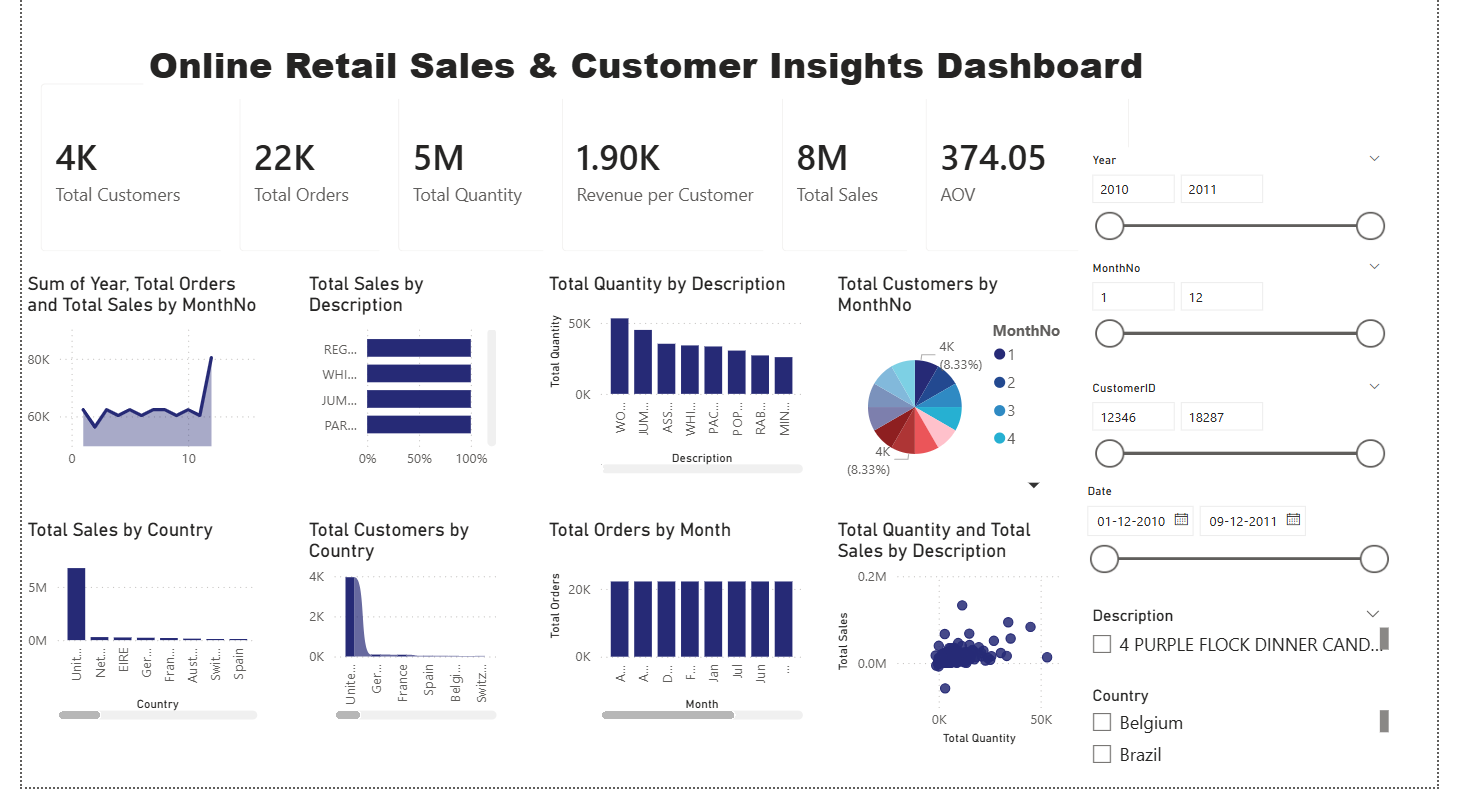

What the dashboard file says about the page in this screenshot:
{"tool":"powerbi","page":{"name":"Page 1","canvas":[1280,720],"ordinal":0},"visuals":[{"type":"cardVisual","fields":{"Data":["online_retail.Total Customers"]},"box":[0,67.2,218.2,186.6],"z":0},{"type":"cardVisual","fields":{"Data":["online_retail.Total Orders"]},"box":[179.8,67.2,218.2,186.6],"z":1000},{"type":"cardVisual","fields":{"Data":["online_retail.Total Quantity"]},"box":[323.8,67.2,218.2,186.6],"z":2000},{"type":"cardVisual","fields":{"Data":["DateTable.Revenue per Customer"]},"box":[472,67.2,240.1,186.6],"z":3000},{"type":"cardVisual","fields":{"Data":["online_retail.Total Sales"]},"box":[671,67.2,218.2,186.6],"z":4000},{"type":"cardVisual","fields":{"Data":["online_retail.AOV"]},"box":[800,67.2,218.2,186.6],"z":5000},{"type":"areaChart","fields":{"Category":["DateTable.MonthNo"],"Y":["Sum(DateTable.Year)"]},"box":[0,253.9,218.2,186.6],"z":6000},{"type":"clusteredColumnChart","fields":{"Category":["online_retail.Country"],"Y":["online_retail.Total Sales"]},"box":[0,477,218,187],"z":6001},{"type":"hundredPercentStackedBarChart","fields":{"Category":["online_retail.Description"],"Y":["online_retail.Total Sales"]},"box":[253.9,253.9,179.8,186.6],"z":6002},{"type":"ribbonChart","fields":{"Y":["online_retail.Total Customers"],"Category":["online_retail.Country"]},"box":[254,477,180,187],"z":6003},{"type":"lineClusteredColumnComboChart","fields":{"Category":["online_retail.Description"],"Y":["online_retail.Total Quantity"]},"box":[472,254,240,187],"z":6004},{"type":"lineStackedColumnComboChart","fields":{"Category":["DateTable.Month"],"Y":["online_retail.Total Orders"]},"box":[472,477,240,187],"z":6005},{"type":"pieChart","fields":{"Category":["DateTable.MonthNo"],"Y":["online_retail.Total Customers"]},"box":[732.8,253.9,222.3,205.8],"z":6006},{"type":"scatterChart","fields":{"X":["online_retail.Total Quantity"],"Y":["online_retail.Total Sales"],"Category":["online_retail.Description"]},"box":[732.8,477.5,222.3,209.9],"z":6007},{"type":"slicer","fields":{"Values":["DateTable.MonthNo"]},"box":[961.1,253.3,284.9,93.8],"z":6009},{"type":"slicer","fields":{"Values":["online_retail.Country"]},"box":[959.9,555.2,280.4,143.6],"z":6010},{"type":"slicer","fields":{"Values":["online_retail.CustomerID"]},"box":[955.1,347.2,285.4,93.3],"z":6011},{"type":"slicer","fields":{"Values":["online_retail.Description"]},"box":[959.9,113.1,284.9,140.2],"z":6012},{"type":"slicer","fields":{"Values":["DateTable.Date"]},"box":[952,448.9,294,102.9],"z":6013},{"type":"textbox","box":[109.8,38.4,989.4,59],"z":6014}]}

Visuals, with their boxes on the page's 1280x720 design canvas (x1, y1, x2, y2). These are canvas units, not pixel positions in the 1458x789 screenshot, which may show the page scaled, cropped or inside an application window:
cardVisual - online_retail.Total Customers: {"x1": 0, "y1": 67, "x2": 218, "y2": 254}
cardVisual - online_retail.Total Orders: {"x1": 180, "y1": 67, "x2": 398, "y2": 254}
cardVisual - online_retail.Total Quantity: {"x1": 324, "y1": 67, "x2": 542, "y2": 254}
cardVisual - DateTable.Revenue per Customer: {"x1": 472, "y1": 67, "x2": 712, "y2": 254}
cardVisual - online_retail.Total Sales: {"x1": 671, "y1": 67, "x2": 889, "y2": 254}
cardVisual - online_retail.AOV: {"x1": 800, "y1": 67, "x2": 1018, "y2": 254}
areaChart - DateTable.MonthNo x Sum(DateTable.Year): {"x1": 0, "y1": 254, "x2": 218, "y2": 440}
clusteredColumnChart - online_retail.Country x online_retail.Total Sales: {"x1": 0, "y1": 477, "x2": 218, "y2": 664}
hundredPercentStackedBarChart - online_retail.Description x online_retail.Total Sales: {"x1": 254, "y1": 254, "x2": 434, "y2": 440}
ribbonChart - online_retail.Total Customers x online_retail.Country: {"x1": 254, "y1": 477, "x2": 434, "y2": 664}
lineClusteredColumnComboChart - online_retail.Description x online_retail.Total Quantity: {"x1": 472, "y1": 254, "x2": 712, "y2": 441}
lineStackedColumnComboChart - DateTable.Month x online_retail.Total Orders: {"x1": 472, "y1": 477, "x2": 712, "y2": 664}
pieChart - DateTable.MonthNo x online_retail.Total Customers: {"x1": 733, "y1": 254, "x2": 955, "y2": 460}
scatterChart - online_retail.Total Quantity x online_retail.Total Sales: {"x1": 733, "y1": 478, "x2": 955, "y2": 687}
slicer - DateTable.MonthNo: {"x1": 961, "y1": 253, "x2": 1246, "y2": 347}
slicer - online_retail.Country: {"x1": 960, "y1": 555, "x2": 1240, "y2": 699}
slicer - online_retail.CustomerID: {"x1": 955, "y1": 347, "x2": 1240, "y2": 440}
slicer - online_retail.Description: {"x1": 960, "y1": 113, "x2": 1245, "y2": 253}
slicer - DateTable.Date: {"x1": 952, "y1": 449, "x2": 1246, "y2": 552}
textbox: {"x1": 110, "y1": 38, "x2": 1099, "y2": 97}
